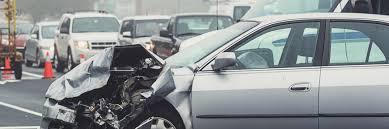bonnet-dent: (63, 41, 172, 82)
fender-dent: (152, 72, 194, 124)
